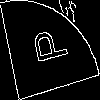P: (24, 24, 69, 68)
